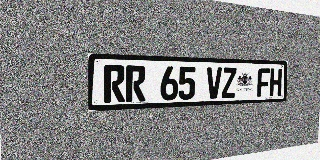5: (179, 66, 196, 100)
6: (160, 66, 178, 101)
F: (257, 68, 270, 97)
H: (269, 68, 282, 96)
R: (104, 65, 125, 103), (126, 65, 146, 102)
V: (206, 67, 222, 99)
Z: (222, 67, 236, 98)
